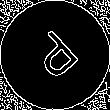P_SE: (24, 24, 86, 86)
